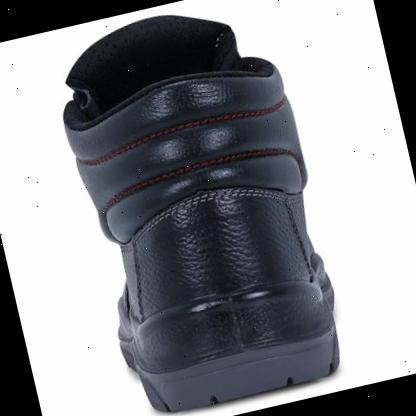bota: (40, 0, 359, 416)
